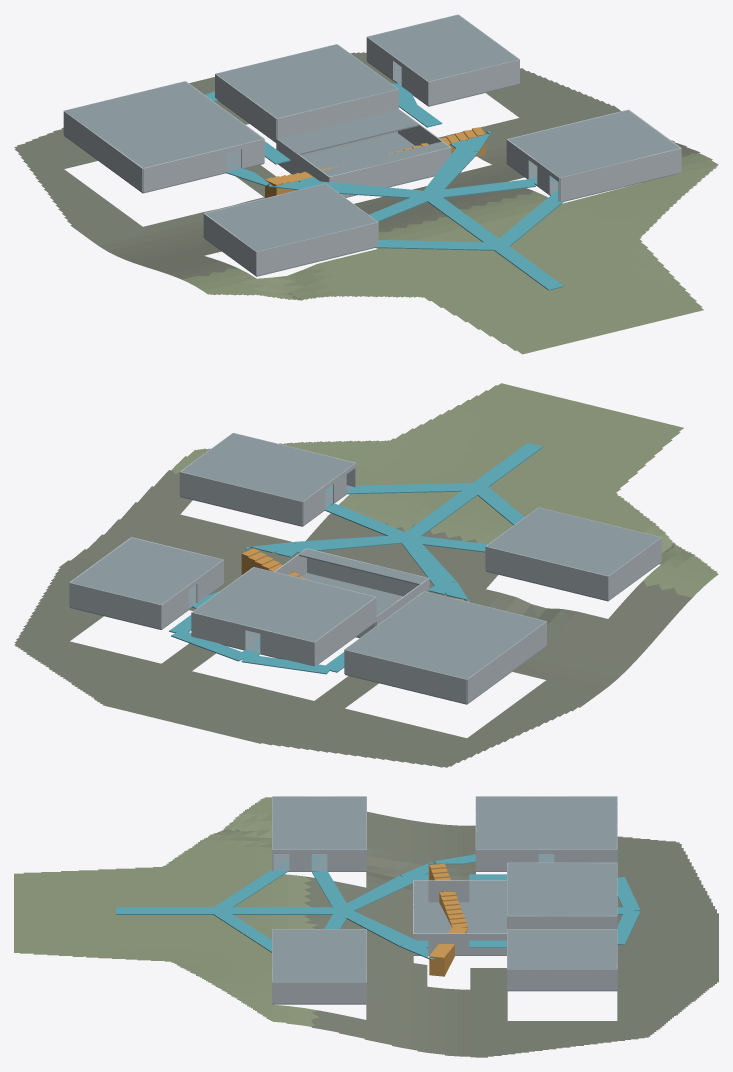
The model's file is terrain-assembly.glb.
The picture shows the model from 3 angles, top to bottom: view 1: azimuth 30°, elevation 25°; view 2: azimuth 150°, elevation 25°; view 3: azimuth 270°, elevation 25°; orthographic projection. The views are drawn at different scales.
Visible parts, largest first — view 1: Saved editor macroterrain WLD-06, Ceiling cap boathouse, Ceiling cap fish, Ceiling cap cottage-a, Ceiling cap cottage-b, Ceiling cap net, Wall cottage-a S, Wall cottage-b S, Wall fish S, Wall undercroft S, Wall net S, Wall boathouse S (+22 smaller); view 2: Saved editor macroterrain WLD-06, Ceiling cap boathouse, Ceiling cap fish, Ceiling cap cottage-b, Ceiling cap cottage-a, Ceiling cap net, Wall cottage-a N, Wall boathouse N, Wall cottage-b N, Wall net N, Wall boathouse W, Wall undercroft S (+17 smaller); view 3: Saved editor macroterrain WLD-06, Ceiling cap boathouse, Ceiling cap fish, Ceiling cap cottage-a, Ceiling cap cottage-b, Ceiling cap net, Wall net E, Wall cottage-b E, Wall fish E, Wall undercroft E, Wall boathouse E.001, Ceiling cap undercroft (+15 smaller).
Boxes of the visible parts, <box> form: Saved editor macroterrain WLD-06: <box>14,52,718,354</box>; Ceiling cap boathouse: <box>64,81,263,167</box>; Ceiling cap fish: <box>216,44,397,118</box>; Ceiling cap cottage-a: <box>205,184,376,251</box>; Ceiling cap cottage-b: <box>508,110,679,177</box>; Ceiling cap net: <box>368,15,518,81</box>; Wall cottage-a S: <box>256,222,378,275</box>; Wall cottage-b S: <box>560,148,681,201</box>; Wall fish S: <box>277,89,398,138</box>; Wall undercroft S: <box>329,147,450,197</box>; Wall net S: <box>428,59,519,105</box>; Wall boathouse S: <box>143,148,226,192</box>; Saved editor macroterrain WLD-06: <box>14,383,718,767</box>; Ceiling cap boathouse: <box>345,591,545,679</box>; Ceiling cap fish: <box>192,567,374,641</box>; Ceiling cap cottage-b: <box>181,433,354,501</box>; Ceiling cap cottage-a: <box>487,507,660,575</box>; Ceiling cap net: <box>70,538,222,604</box>; Wall cottage-a N: <box>485,546,608,600</box>; Wall boathouse N: <box>344,650,466,703</box>; Wall cottage-b N: <box>180,471,302,525</box>; Wall net N: <box>69,582,161,628</box>; Wall boathouse W: <box>467,621,546,703</box>; Wall undercroft S: <box>307,548,428,596</box>; Saved editor macroterrain WLD-06: <box>14,797,718,1057</box>; Ceiling cap boathouse: <box>476,796,617,849</box>; Ceiling cap fish: <box>507,863,617,915</box>; Ceiling cap cottage-a: <box>272,796,366,849</box>; Ceiling cap cottage-b: <box>272,929,366,981</box>; Ceiling cap net: <box>507,929,617,968</box>; Wall net E: <box>507,969,617,990</box>; Wall cottage-b E: <box>272,982,366,1003</box>; Wall fish E: <box>507,915,617,928</box>; Wall undercroft E: <box>413,933,506,955</box>; Wall boathouse E.001: <box>476,849,538,871</box>; Ceiling cap undercroft: <box>469,881,506,906</box>.
Size of the model in its own units: 70 by 7.76 by 90.
